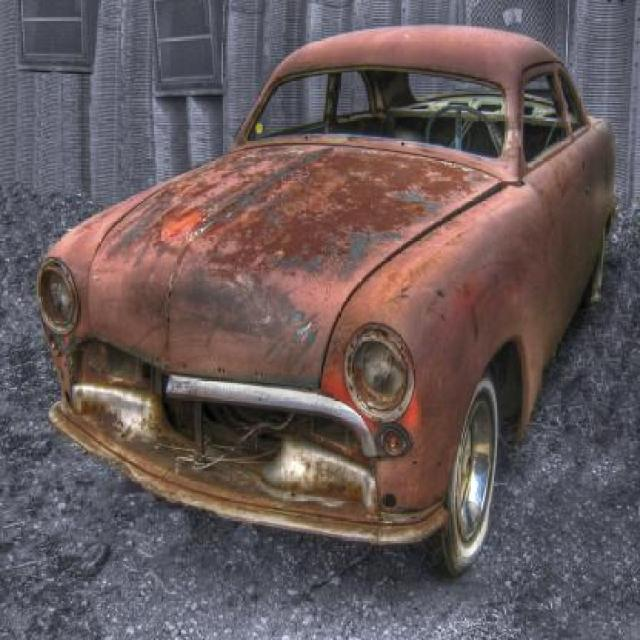corrosion: (39, 21, 622, 582)
